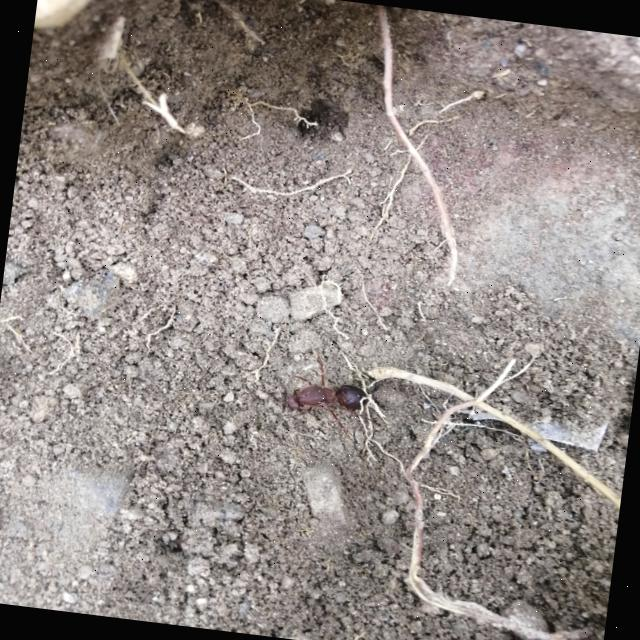Alive-Female-Dealate: (277, 344, 389, 442)
